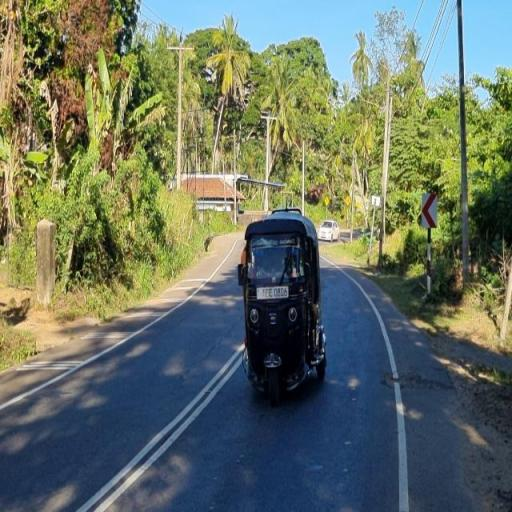double_white_line: (77, 342, 242, 511)
